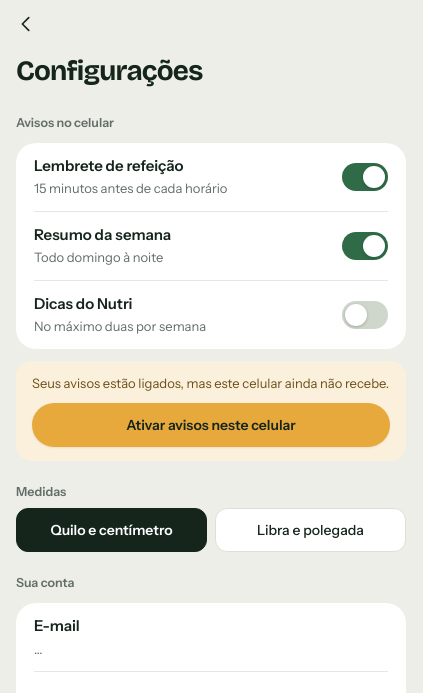
Scenario: Configurações (S19) › permissão negada: volta a desligado e explica (CA02)
Click the switch labelled "Dicas do Nutri" at (83, 303), box 34,281 -> 388,349
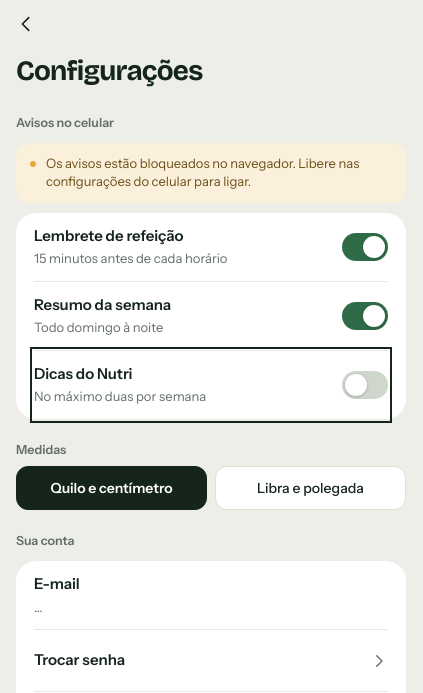
expect the text "Os avisos estão bloqueados no navegador. Libere nas configurações do celular para ligar." is shown: met, box 46,155 -> 359,189
